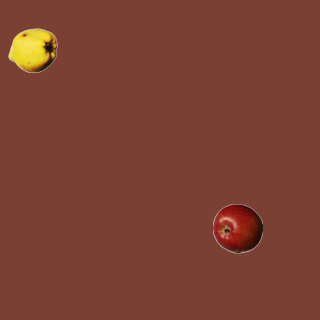Apple Braeburn: (212, 203, 262, 253)
Quince: (7, 25, 57, 75)
